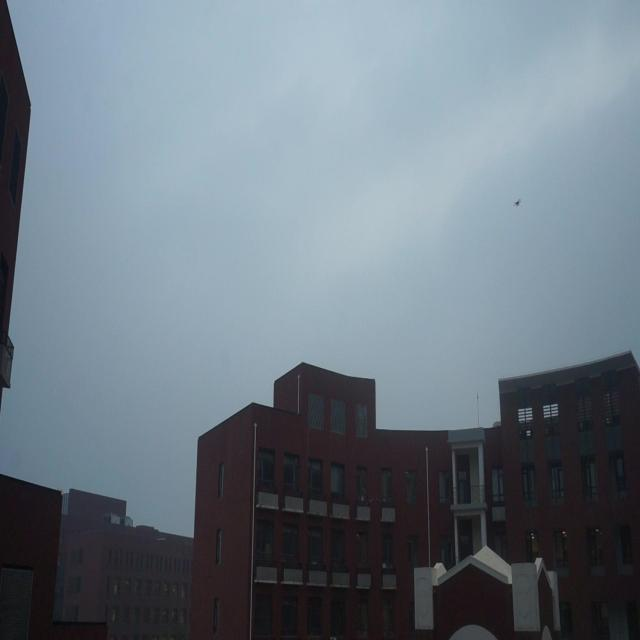drone: (513, 194, 522, 212)
